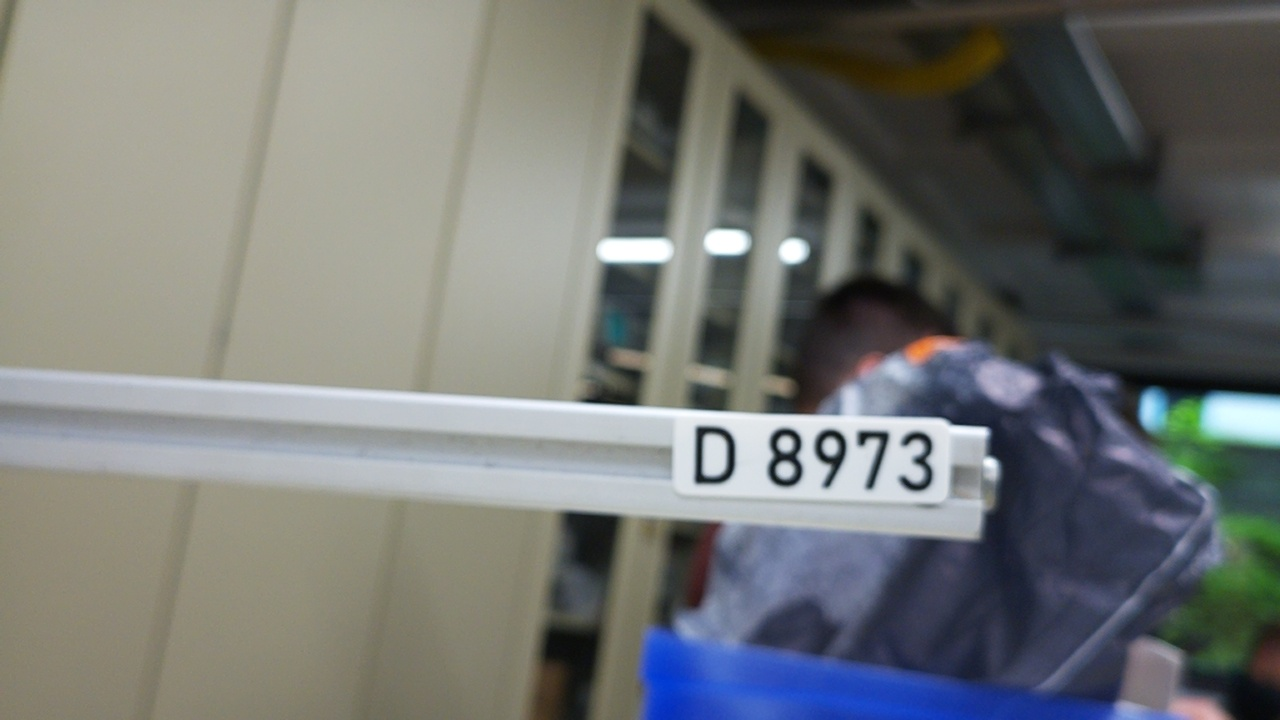license_plate: (668, 407, 954, 505)
